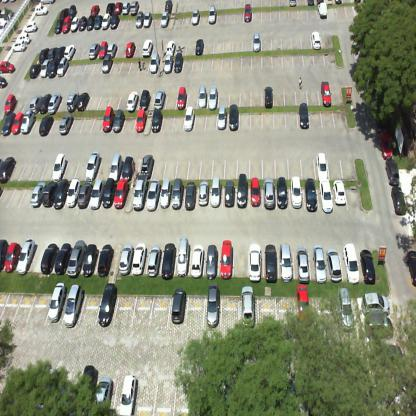car: (61, 282, 84, 327), (96, 282, 118, 327), (336, 284, 356, 331), (373, 343, 404, 372), (384, 383, 412, 415), (119, 372, 138, 416), (364, 313, 394, 340), (67, 237, 87, 277), (15, 237, 36, 275), (48, 280, 66, 324), (342, 240, 360, 283), (361, 291, 389, 315), (96, 373, 112, 415), (169, 288, 186, 327), (241, 283, 256, 327), (80, 364, 94, 408), (206, 285, 220, 329), (296, 241, 311, 282), (54, 239, 72, 273), (326, 245, 342, 283), (40, 242, 58, 275), (131, 239, 147, 276), (280, 237, 293, 282), (3, 240, 21, 272), (312, 242, 326, 283), (360, 245, 375, 283), (161, 240, 176, 277), (297, 284, 311, 323), (0, 152, 17, 184), (83, 241, 98, 277), (220, 235, 232, 280), (176, 237, 190, 275), (391, 183, 407, 216), (318, 180, 334, 213), (53, 177, 69, 210), (190, 243, 205, 278), (248, 240, 261, 280), (119, 240, 134, 274), (304, 176, 318, 212), (114, 178, 130, 209), (98, 242, 113, 275), (132, 179, 147, 212), (66, 176, 81, 209), (265, 242, 277, 283), (85, 149, 100, 181), (42, 178, 58, 208), (148, 240, 161, 276), (276, 172, 289, 208), (30, 180, 46, 209), (235, 172, 248, 207), (315, 151, 330, 181), (145, 180, 160, 210), (170, 178, 184, 210), (53, 148, 67, 180), (206, 244, 218, 281), (290, 174, 303, 208), (263, 176, 276, 210), (90, 178, 104, 209), (406, 246, 416, 288), (379, 129, 393, 159), (78, 179, 92, 209), (102, 178, 116, 207), (332, 179, 347, 206), (109, 152, 123, 180), (386, 156, 399, 186), (20, 108, 35, 134), (223, 177, 235, 209), (184, 180, 196, 212), (210, 176, 221, 210), (159, 178, 171, 209), (298, 100, 310, 131), (140, 150, 154, 176), (197, 179, 210, 206), (48, 89, 62, 114), (39, 114, 54, 137), (112, 106, 125, 132), (1, 110, 15, 134), (228, 101, 239, 131), (150, 107, 163, 132), (102, 105, 114, 132), (184, 103, 195, 132), (11, 110, 24, 134), (217, 102, 228, 130), (153, 87, 167, 109), (76, 90, 90, 112), (4, 92, 18, 114), (121, 156, 134, 179), (251, 174, 260, 207), (320, 80, 331, 107), (136, 105, 146, 134), (126, 88, 138, 112), (208, 85, 219, 111), (59, 112, 72, 134), (47, 56, 60, 78), (309, 29, 322, 51), (178, 83, 188, 111), (40, 91, 52, 114), (198, 82, 208, 109), (139, 86, 150, 109), (67, 88, 78, 111), (142, 36, 153, 58), (263, 84, 273, 108), (149, 50, 159, 74), (0, 238, 7, 272), (30, 93, 42, 112), (56, 58, 68, 77), (317, 1, 329, 20), (102, 53, 113, 73), (124, 38, 135, 58), (0, 60, 15, 74), (243, 1, 253, 22), (11, 39, 27, 52), (63, 44, 76, 60), (174, 51, 183, 74), (29, 62, 41, 79), (252, 29, 260, 54), (190, 8, 200, 28), (133, 11, 144, 29), (16, 31, 31, 44), (33, 4, 49, 16), (88, 42, 100, 58), (40, 58, 50, 77), (158, 10, 168, 29), (23, 21, 38, 33), (98, 38, 108, 56), (164, 53, 173, 73), (60, 17, 72, 32), (164, 38, 175, 54), (208, 4, 216, 26), (142, 10, 152, 27), (92, 15, 104, 29), (107, 41, 118, 56), (84, 15, 95, 30), (194, 38, 204, 54), (110, 12, 120, 28), (78, 15, 88, 31), (37, 47, 49, 60), (112, 0, 123, 14), (56, 44, 66, 59), (129, 0, 139, 15), (69, 17, 79, 32), (101, 12, 110, 28), (55, 19, 64, 35), (164, 0, 173, 15), (121, 1, 130, 16), (90, 4, 100, 17), (67, 4, 77, 17), (47, 46, 57, 58), (105, 1, 115, 13), (58, 7, 70, 17), (0, 76, 9, 88), (40, 0, 55, 6)
